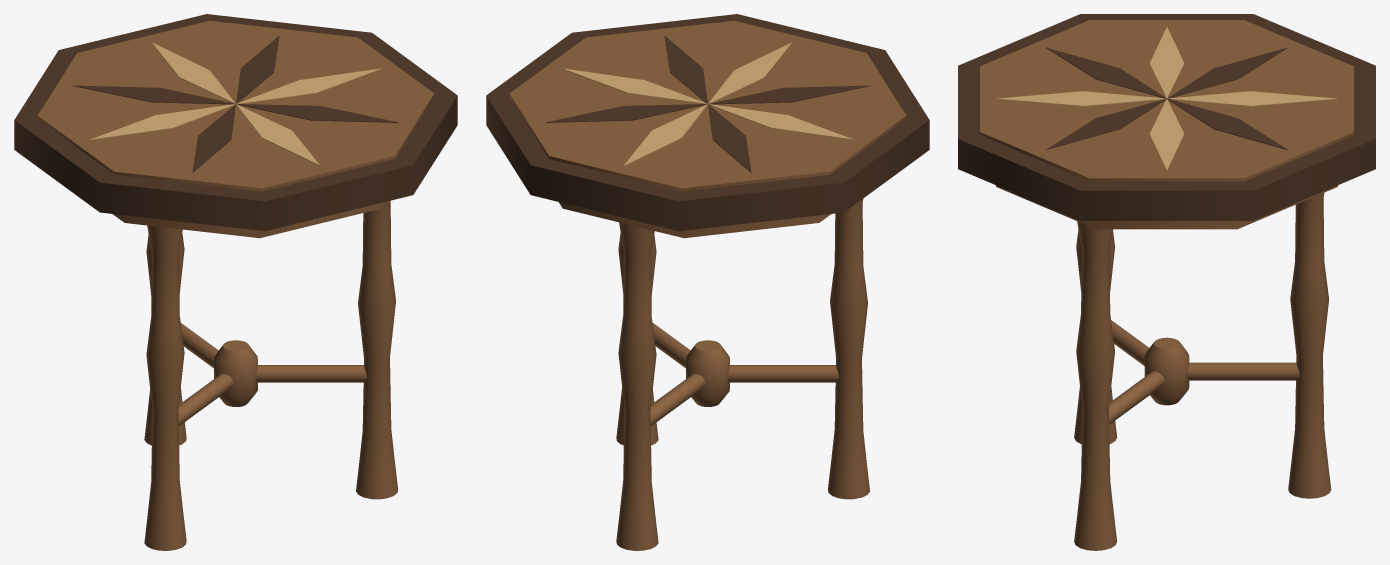
The model's file is table_octagonal_inlay.glb.
3 views of the same model, side by side, from view 1: azimuth 30°, elevation 25°; view 2: azimuth 150°, elevation 25°; view 3: azimuth 270°, elevation 25° (orthographic).
Parts seen in each view (by area): view 1: Inset octagonal top, Octagonal thick tabletop, Slender turned accent leg.001, Slender turned accent leg.002, Stretcher central finial, Three-way lower stretcher.002, Octagonal under-top apron, Eight-point tabletop inlay.003, Eight-point tabletop inlay.007, Eight-point tabletop inlay, Eight-point tabletop inlay.004, Eight-point tabletop inlay.006 (+6 smaller); view 2: Inset octagonal top, Octagonal thick tabletop, Slender turned accent leg, Slender turned accent leg.001, Stretcher central finial, Three-way lower stretcher.001, Octagonal under-top apron, Eight-point tabletop inlay.005, Eight-point tabletop inlay.001, Eight-point tabletop inlay, Eight-point tabletop inlay.004, Eight-point tabletop inlay.002 (+6 smaller); view 3: Inset octagonal top, Octagonal thick tabletop, Slender turned accent leg.002, Slender turned accent leg, Stretcher central finial, Three-way lower stretcher, Octagonal under-top apron, Eight-point tabletop inlay.002, Eight-point tabletop inlay.006, Eight-point tabletop inlay.001, Eight-point tabletop inlay.003, Eight-point tabletop inlay.005 (+6 smaller).
Part boxes in pixels (bbox=[...]): Inset octagonal top: bbox=[37, 20, 434, 191]; Octagonal thick tabletop: bbox=[14, 14, 457, 231]; Slender turned accent leg.001: bbox=[144, 225, 186, 550]; Slender turned accent leg.002: bbox=[356, 200, 397, 499]; Stretcher central finial: bbox=[214, 340, 257, 406]; Three-way lower stretcher.002: bbox=[256, 365, 367, 382]; Octagonal under-top apron: bbox=[113, 202, 384, 238]; Eight-point tabletop inlay.003: bbox=[73, 85, 235, 104]; Eight-point tabletop inlay.007: bbox=[236, 104, 398, 122]; Eight-point tabletop inlay: bbox=[236, 68, 381, 103]; Eight-point tabletop inlay.004: bbox=[90, 104, 235, 139]; Eight-point tabletop inlay.006: bbox=[236, 104, 320, 165]; Inset octagonal top: bbox=[509, 20, 906, 191]; Octagonal thick tabletop: bbox=[486, 14, 929, 231]; Slender turned accent leg: bbox=[616, 222, 658, 550]; Slender turned accent leg.001: bbox=[828, 199, 869, 499]; Stretcher central finial: bbox=[686, 340, 729, 406]; Three-way lower stretcher.001: bbox=[728, 365, 839, 382]; Octagonal under-top apron: bbox=[559, 202, 830, 238]; Eight-point tabletop inlay.005: bbox=[708, 85, 870, 104]; Eight-point tabletop inlay.001: bbox=[545, 104, 707, 122]; Eight-point tabletop inlay: bbox=[562, 68, 707, 103]; Eight-point tabletop inlay.004: bbox=[708, 104, 853, 139]; Eight-point tabletop inlay.002: bbox=[623, 104, 707, 165]; Inset octagonal top: bbox=[980, 20, 1353, 181]; Octagonal thick tabletop: bbox=[958, 14, 1375, 220]; Slender turned accent leg.002: bbox=[1074, 221, 1117, 550]; Slender turned accent leg: bbox=[1288, 193, 1331, 498]; Stretcher central finial: bbox=[1144, 337, 1189, 405]; Three-way lower stretcher: bbox=[1187, 362, 1299, 380]; Octagonal under-top apron: bbox=[996, 185, 1337, 229]; Eight-point tabletop inlay.002: bbox=[1167, 91, 1337, 106]; Eight-point tabletop inlay.006: bbox=[996, 91, 1166, 106]; Eight-point tabletop inlay.001: bbox=[1167, 98, 1287, 149]; Eight-point tabletop inlay.003: bbox=[1167, 47, 1287, 98]; Eight-point tabletop inlay.005: bbox=[1046, 47, 1166, 98].
Bounding box in the file's own units: 0.6005 × 0.62 × 0.6005.
